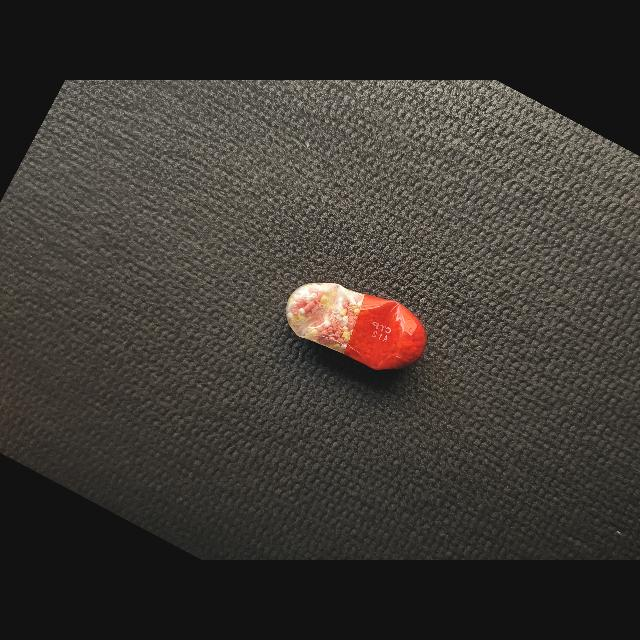Defective Capsule: (286, 283, 427, 370)
